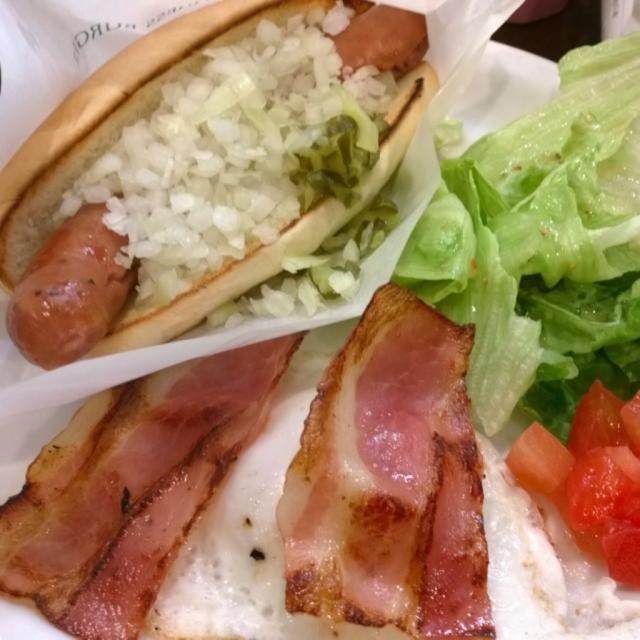Hot dog: (0, 0, 476, 403)
